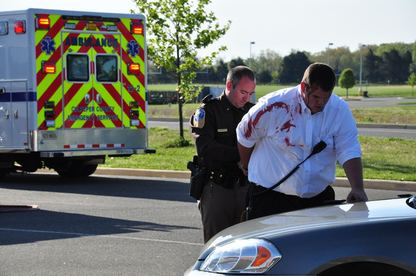ambulance: (0, 7, 158, 184)
car: (182, 187, 409, 274)
